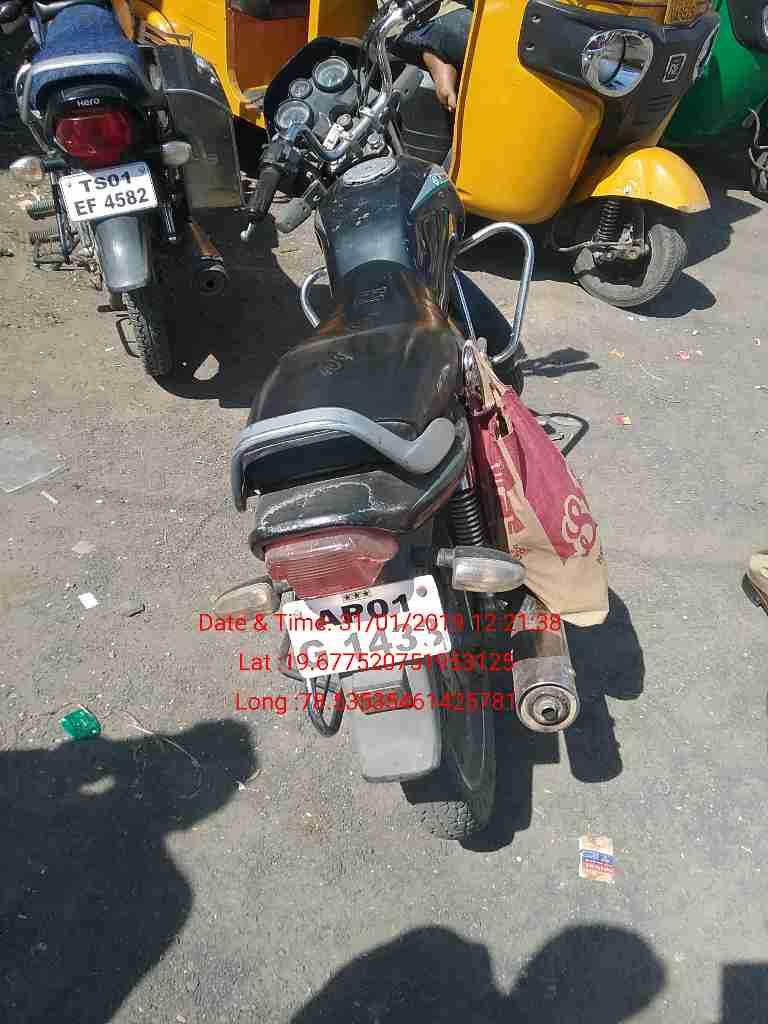plate: (52, 161, 163, 221)
